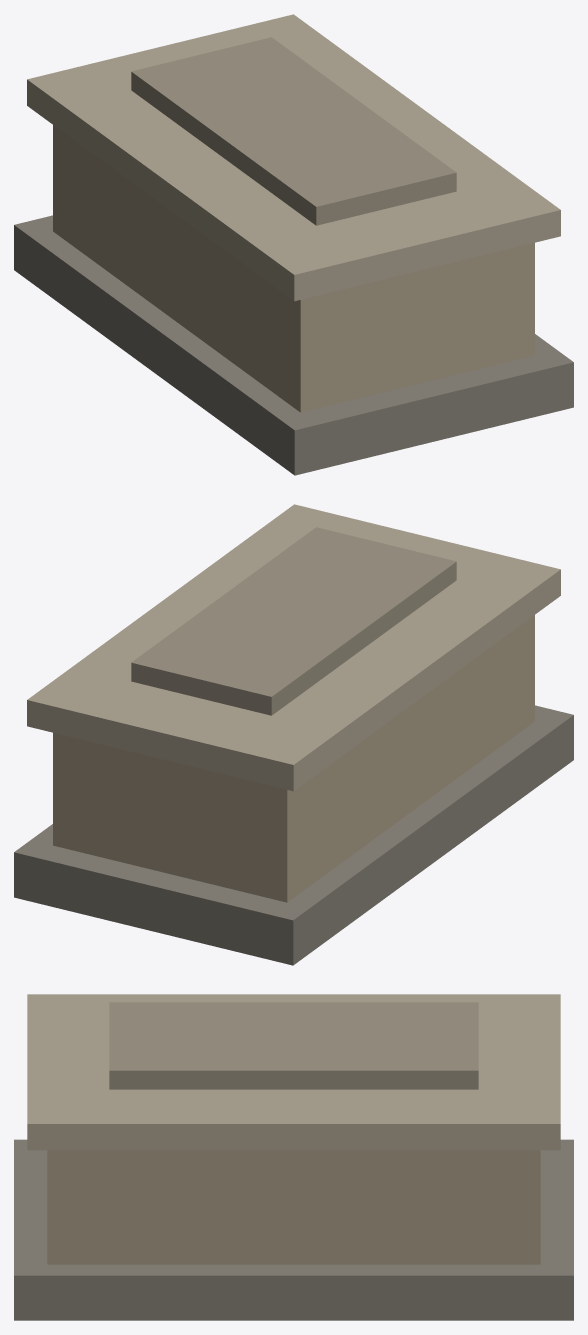
File: Dungeon_Sarcophagus.fbx
3 views of the same model, one above another, from view 1: azimuth 30°, elevation 25°; view 2: azimuth 150°, elevation 25°; view 3: azimuth 270°, elevation 25° (orthographic).
Parts seen in each view (by area): view 1: Dungeon_Sarcophagus; view 2: Dungeon_Sarcophagus; view 3: Dungeon_Sarcophagus.
Boxes of the visible parts, x1=… form: Dungeon_Sarcophagus: x1=14, y1=14, x2=573, y2=475; Dungeon_Sarcophagus: x1=14, y1=504, x2=573, y2=965; Dungeon_Sarcophagus: x1=14, y1=994, x2=573, y2=1320.
Size of the model in its own units: 1.55 by 1.15 by 2.7.
